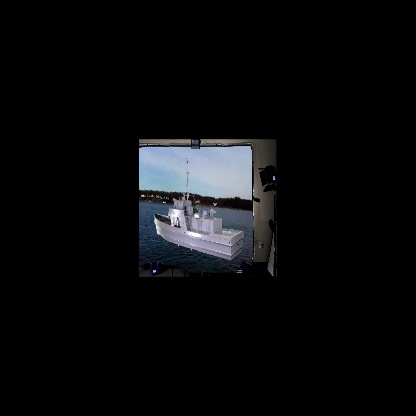YP689: (154, 154, 244, 261)
